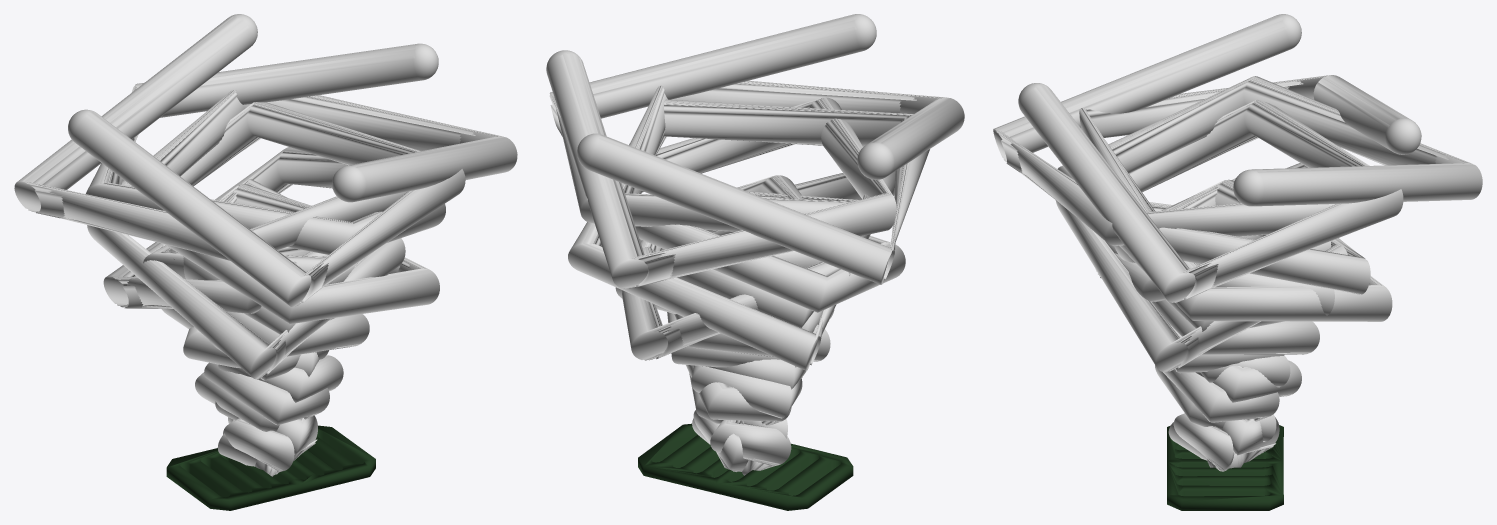
Rendered from vent.fbx.
3 renders of one model, left to right at view 1: azimuth 30°, elevation 25°; view 2: azimuth 150°, elevation 25°; view 3: azimuth 270°, elevation 25°, orthographic. The views are drawn at different scales.
Visible parts, largest first — view 1: Sphere.003, Cylinder; view 2: Sphere.003, Cylinder; view 3: Sphere.003, Cylinder.
Boxes of the visible parts, bbox=[...] form: Sphere.003: bbox=[14, 14, 517, 476]; Cylinder: bbox=[166, 425, 375, 510]; Sphere.003: bbox=[546, 14, 964, 475]; Cylinder: bbox=[638, 423, 853, 510]; Sphere.003: bbox=[993, 14, 1482, 471]; Cylinder: bbox=[1167, 425, 1283, 510].
Bounding box in the file's own units: 326 × 287 × 334.
